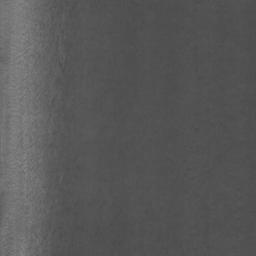Silk spot: (0, 0, 80, 256)
